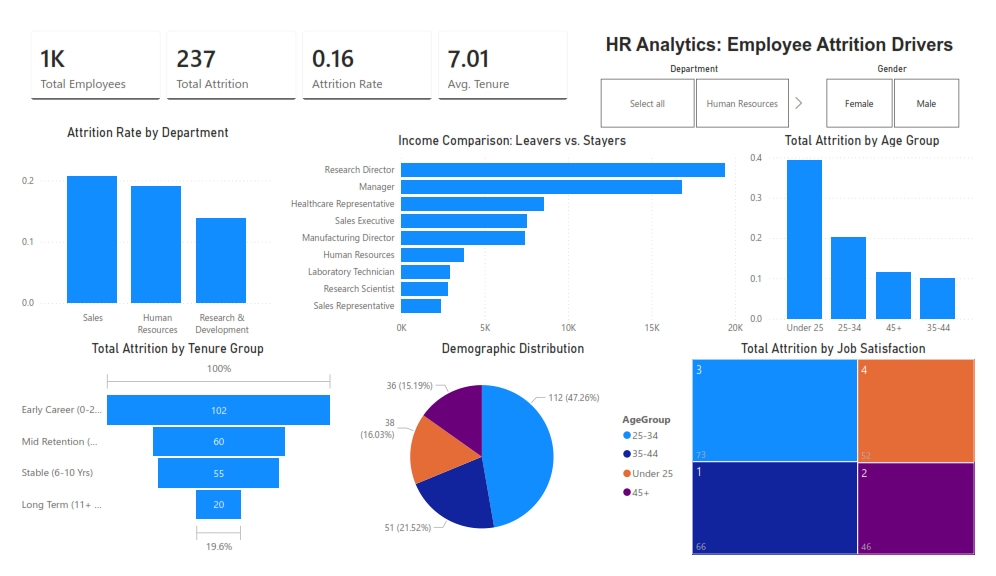

Layout of this report page (visuals, bound fields, positions):
{"tool":"powerbi","page":{"name":"Page 1","canvas":[1280,720],"ordinal":0},"visuals":[{"type":"cardVisual","fields":{"Data":["KeyMeasures.1. TotalEmployees","KeyMeasures.TotalAttrition","KeyMeasures.AttritionRate","KeyMeasures.AverageEmployeeTenure"]},"box":[0,0,751.2,126.2],"z":0},{"type":"clusteredColumnChart","title":"Attrition Rate by Department","fields":{"Y":["KeyMeasures.3. AttritionRate"],"Category":["WA_Fn-UseC_-HR-Employee-Attrition.Department"]},"box":[0,142.5,346.2,288.8],"z":1000},{"type":"funnel","title":"Total Attrition by Tenure Group","fields":{"Category":["WA_Fn-UseC_-HR-Employee-Attrition.TenureGroup"],"Y":["KeyMeasures.TotalAttrition"]},"box":[0,431.2,426.2,290],"z":2000},{"type":"pieChart","title":"Demographic Distribution","fields":{"Y":["KeyMeasures.2. TotalAttrition"],"Category":["WA_Fn-UseC_-HR-Employee-Attrition.AgeGroup"]},"box":[426.2,431.2,467.5,288.8],"z":3000},{"type":"clusteredBarChart","title":"Income Comparison: Leavers vs. Stayers","fields":{"Category":["WA_Fn-UseC_-HR-Employee-Attrition.JobRole"],"Y":["KeyMeasures.AvgIncomeLeavers"]},"box":[346.7,153.3,624,277.3],"z":4000},{"type":"clusteredColumnChart","title":"Total Attrition by Age Group","fields":{"Category":["WA_Fn-UseC_-HR-Employee-Attrition.AgeGroup"],"Y":["KeyMeasures.AttritionRate"]},"box":[970.7,153.3,309.3,277.3],"z":5000},{"type":"textbox","box":[751.2,0,528.8,72.5],"z":6000},{"type":"treemap","title":"Total Attrition by Job Satisfaction","fields":{"Group":["WA_Fn-UseC_-HR-Employee-Attrition.JobSatisfaction"],"Values":["KeyMeasures.TotalAttrition"]},"box":[893.8,431.2,386.2,288.8],"z":7000},{"type":"slicer","title":"Department","fields":{"Values":["WA_Fn-UseC_-HR-Employee-Attrition.Department"]},"box":[750.7,61.3,301.3,92],"z":8000},{"type":"slicer","title":"Gender","fields":{"Values":["WA_Fn-UseC_-HR-Employee-Attrition.Gender"]},"box":[1052,61.3,226.7,92],"z":9000}]}

Visuals, with their boxes in screenshot pixels (x1, y1, x2, y2), scaled from the page's 1280x720 canvas onto the 996x576 screenshot:
cardVisual - KeyMeasures.1. TotalEmployees x KeyMeasures.TotalAttrition: x1=0, y1=0, x2=585, y2=101
"Attrition Rate by Department" clusteredColumnChart: x1=0, y1=114, x2=269, y2=345
"Total Attrition by Tenure Group" funnel: x1=0, y1=345, x2=332, y2=575
"Demographic Distribution" pieChart: x1=332, y1=345, x2=695, y2=575
"Income Comparison: Leavers vs. Stayers" clusteredBarChart: x1=270, y1=123, x2=755, y2=344
"Total Attrition by Age Group" clusteredColumnChart: x1=755, y1=123, x2=995, y2=344
textbox: x1=585, y1=0, x2=995, y2=58
"Total Attrition by Job Satisfaction" treemap: x1=695, y1=345, x2=995, y2=575
"Department" slicer: x1=584, y1=49, x2=819, y2=123
"Gender" slicer: x1=819, y1=49, x2=995, y2=123
